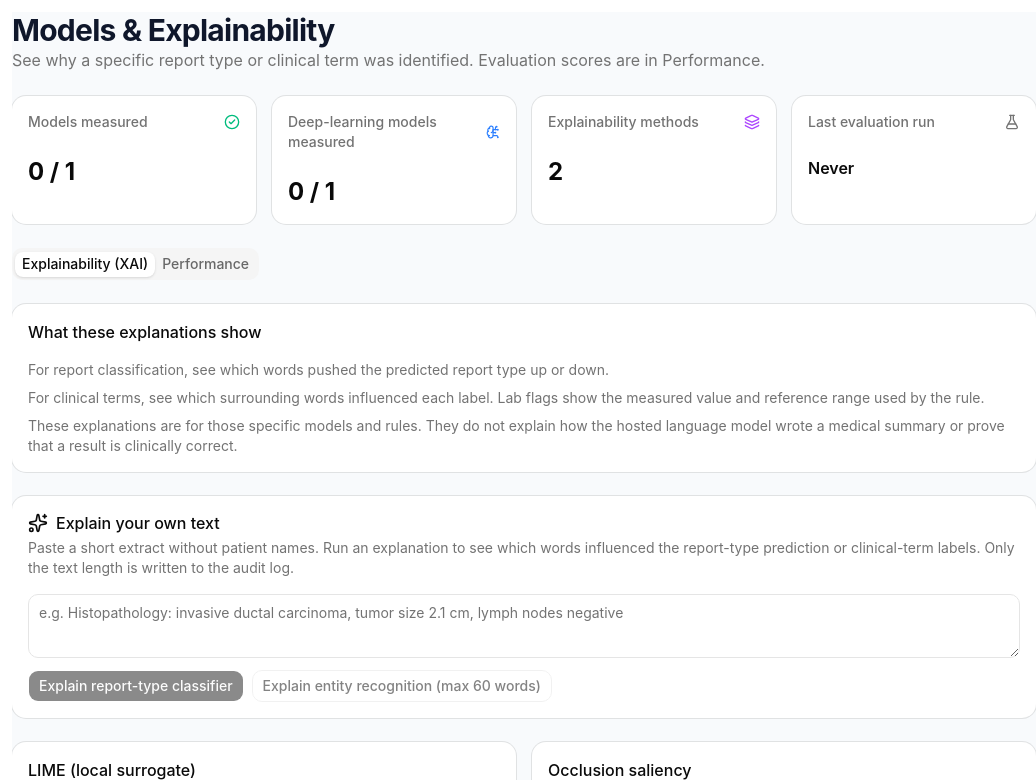
Test: ModelPerformancePage › says "Not evaluated yet" instead of showing numbers, and explains how to measure
Click the tab "Performance": (206, 264) [155, 252, 256, 276]
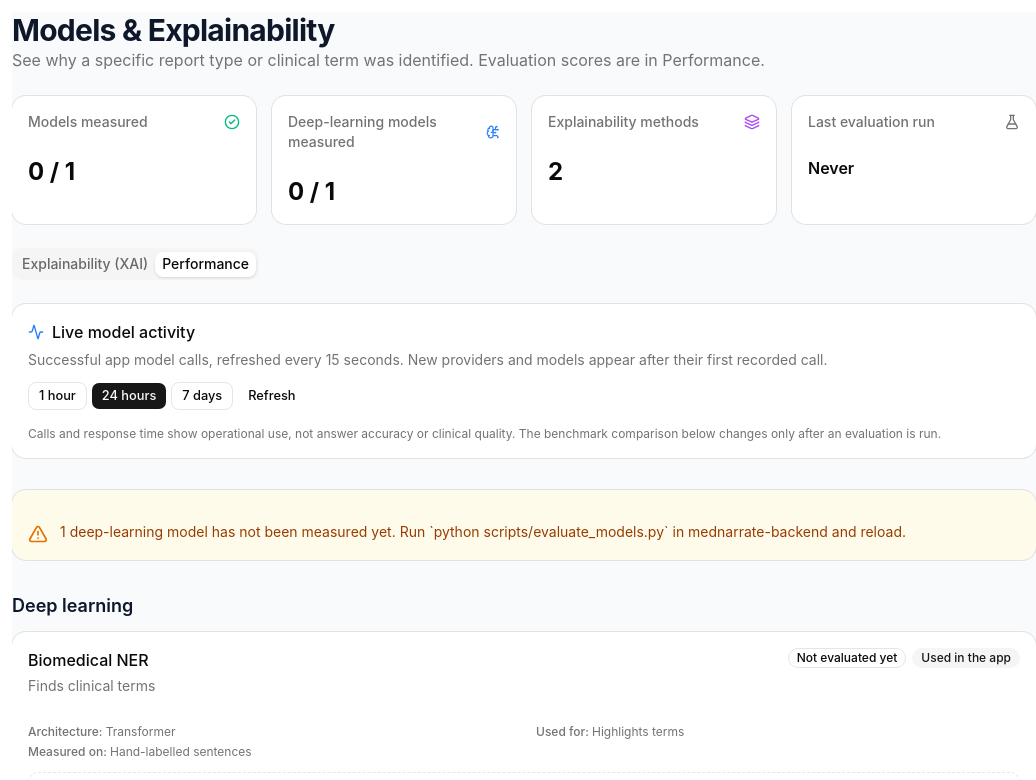
Check: the text "Not evaluated yet" is shown, box [788, 648, 906, 668]
Check: the text "1 deep-learning model has not been measured yet" is shown, box [60, 522, 906, 542]
Check: the text "scripts/evaluate_models.py" is shown, box [400, 523, 906, 540]
